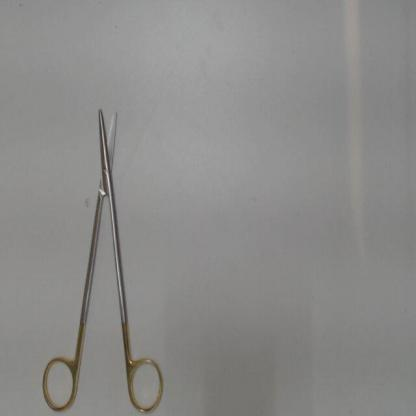7 Metzenbaum Scissors: (42, 108, 165, 415)
